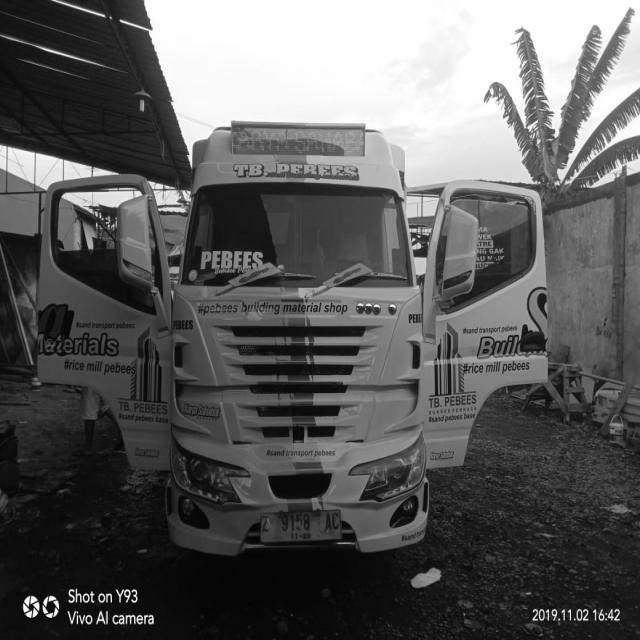truck: (37, 122, 547, 568)
